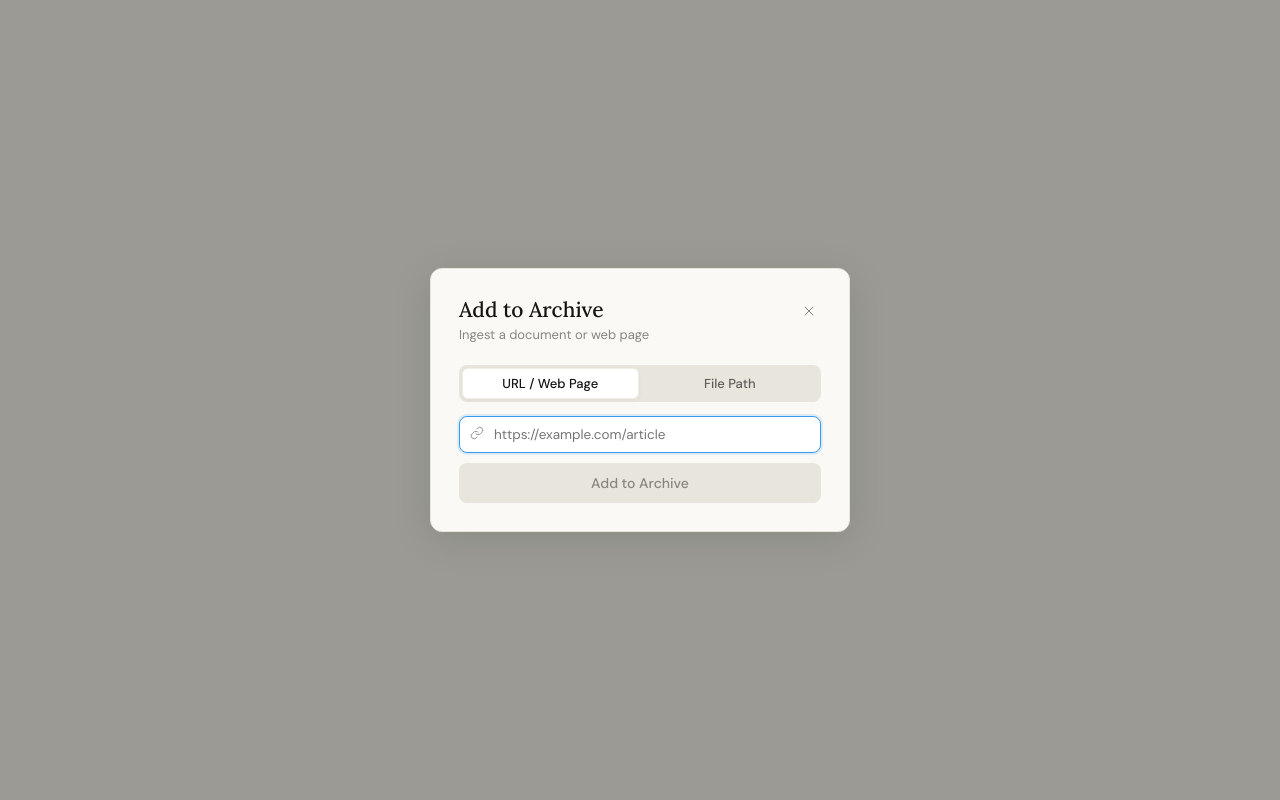
UploadModal › shows error message when ingest fails
In the field: (640, 435) [459,416,821,454], type "https://bad.url"
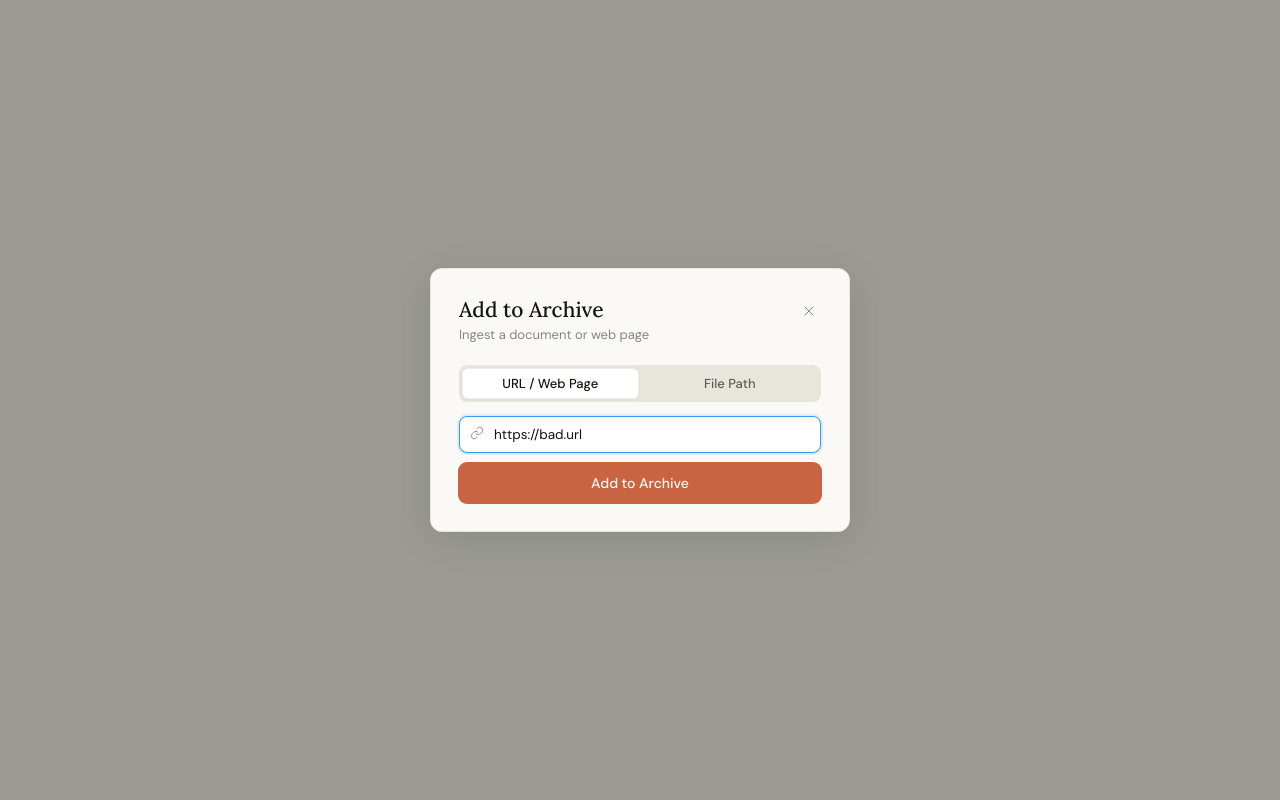
Click the button "Add to Archive": (640, 484) [459,464,821,504]
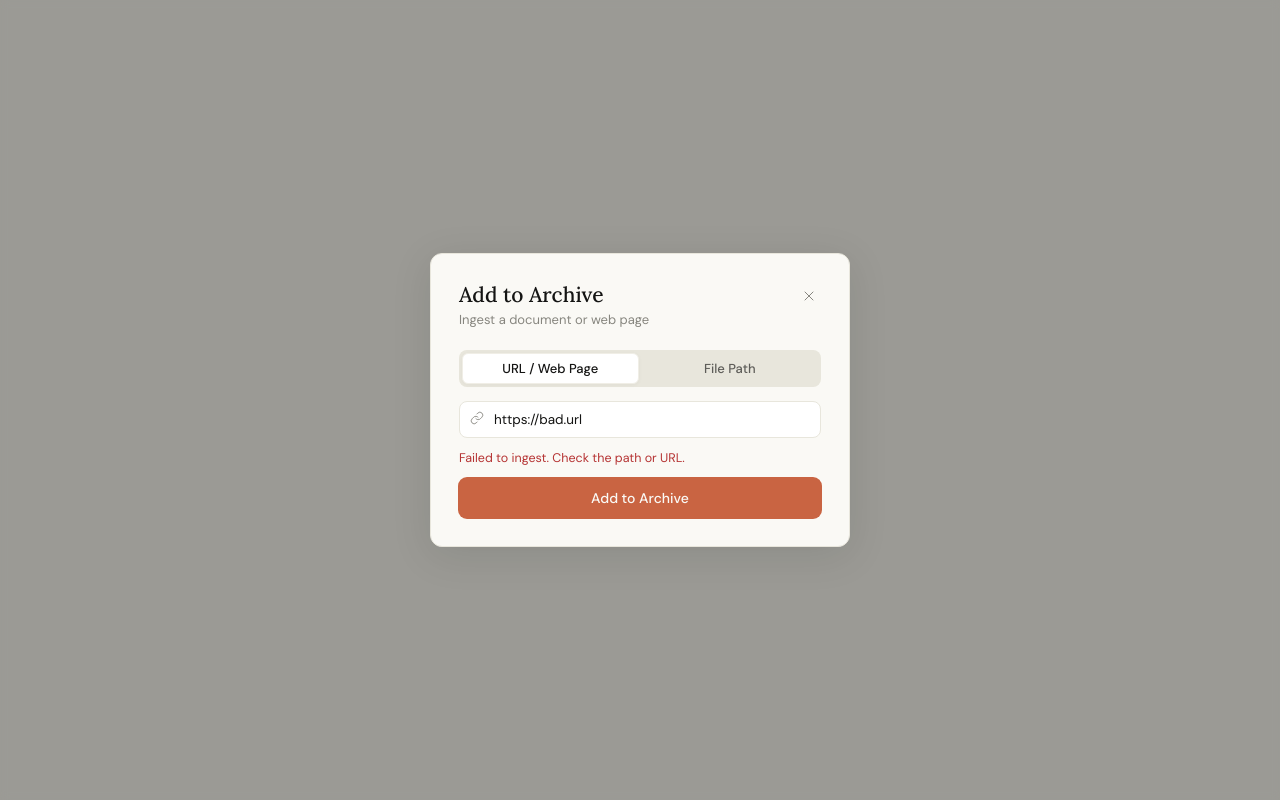
Expected: the text "Failed to ingest. Check the path or URL." is shown, [459,450,685,466]
